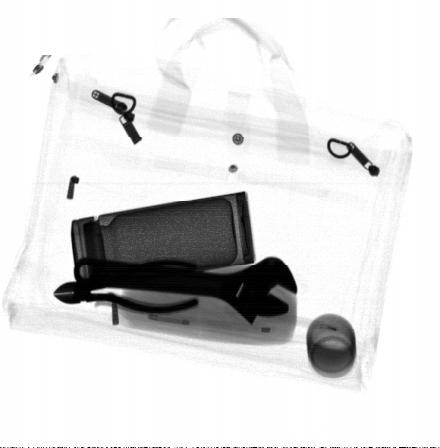Pliers: (52, 256, 201, 316)
Wrench: (73, 256, 299, 325)
